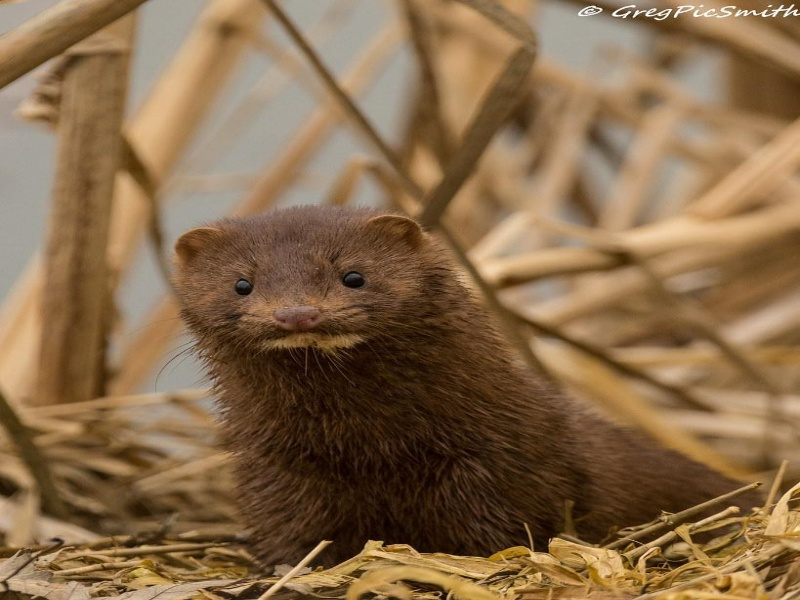minkish: (157, 197, 758, 569)
